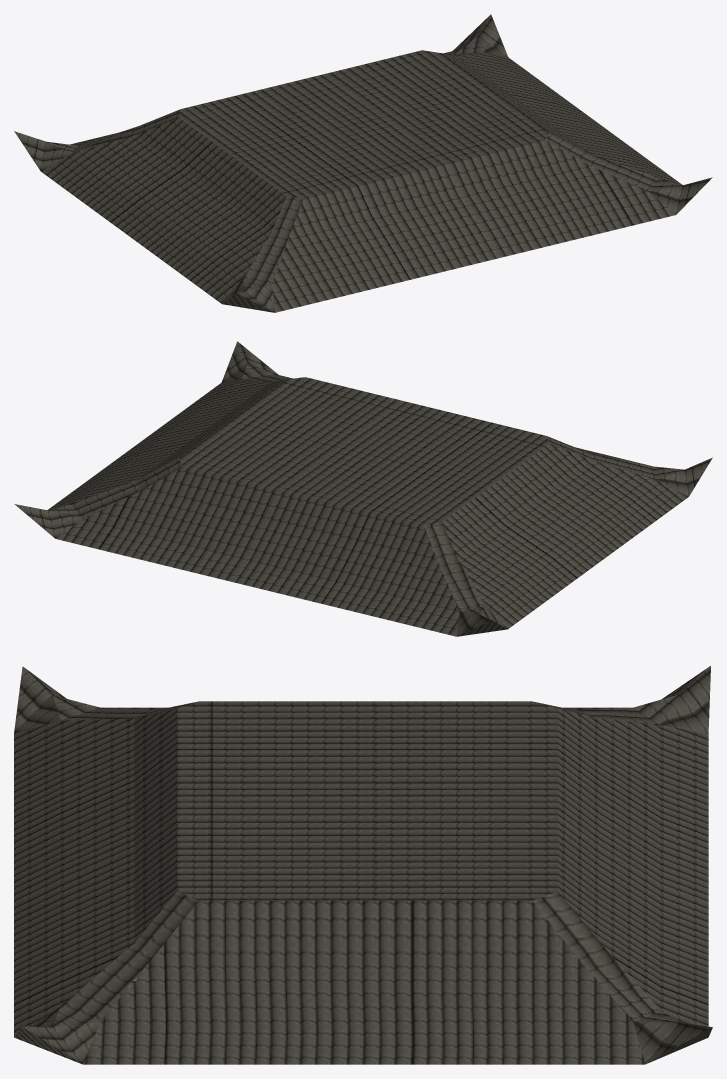
Rendered from castle_break2.fbx.
3 views of the same model, one above another, from view 1: azimuth 30°, elevation 25°; view 2: azimuth 150°, elevation 25°; view 3: azimuth 270°, elevation 25° (orthographic). The views are drawn at different scales.
Parts seen in each view (by area): view 1: polySurface33; view 2: polySurface33; view 3: polySurface33.
Boxes of the visible parts, x1,y1,x2,y2 form: polySurface33: [14, 14, 712, 312]; polySurface33: [14, 341, 712, 636]; polySurface33: [14, 666, 712, 1064].
Bounding box in the file's own units: 3.58 × 0.4453 × 2.93.
